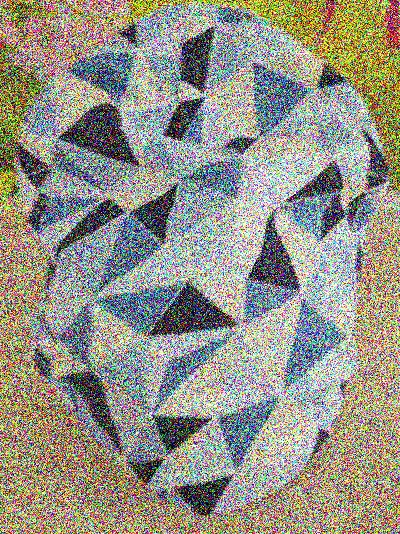Hat: (24, 8, 389, 500)
